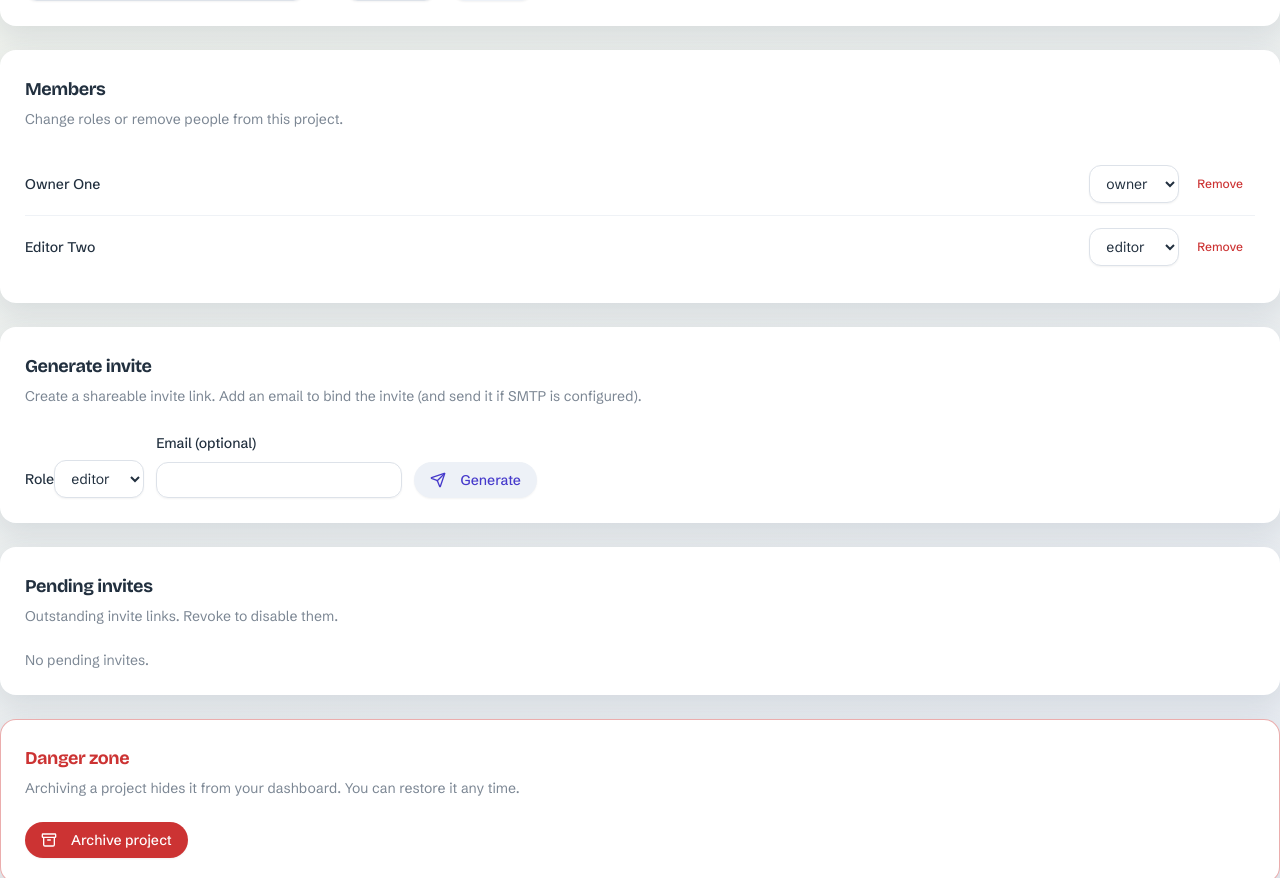
ProjectTab › generating a link-only invite renders the /invite/<token> URL + email-not-configured hint when an email was supplied
(page scrolled)
Check: the text "Generate invite" is shown, box [25,355,152,377]
Step 1. Type "who@x.co" into the field labelled "Email (optional)" → (279, 480), box [156,462,402,498]
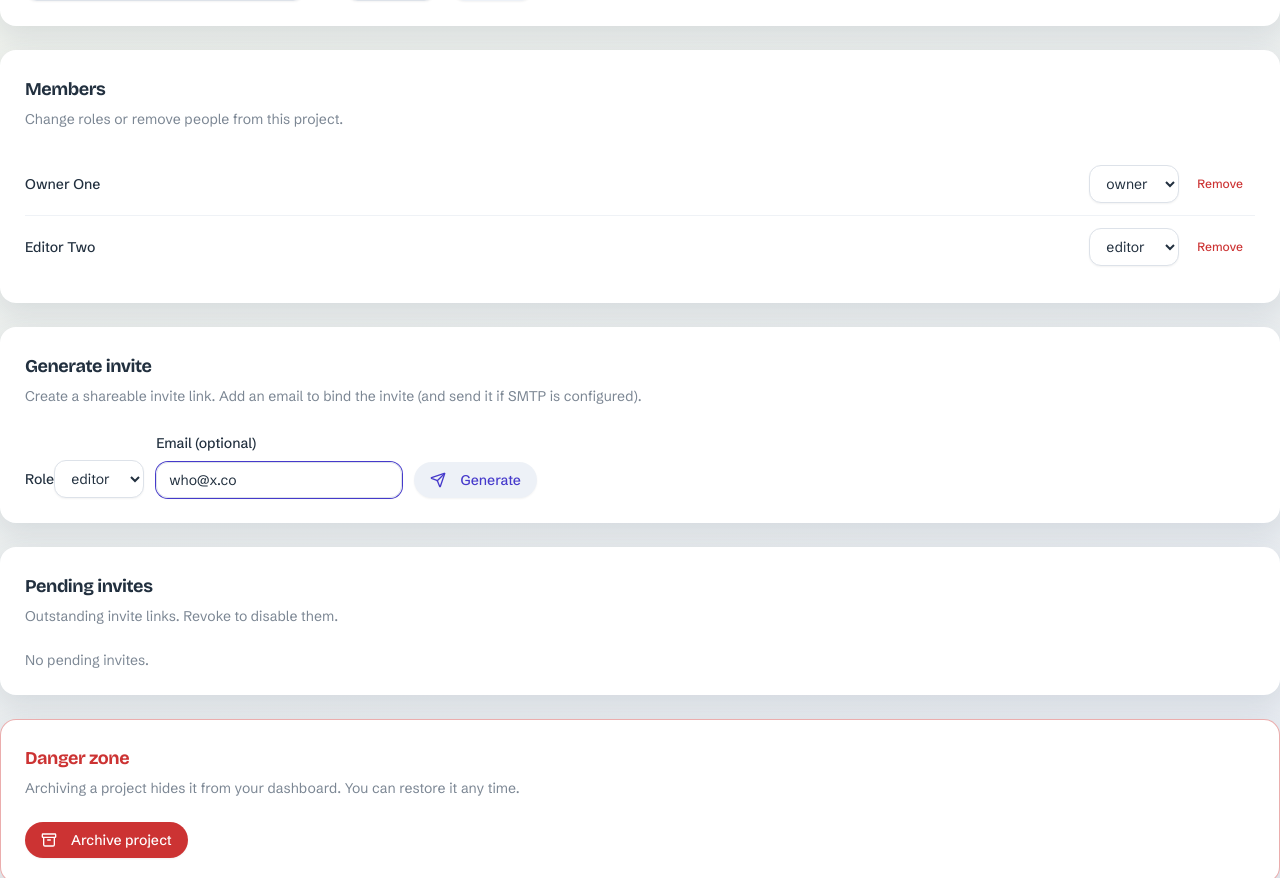
Step 2. Click the button "Generate" → (476, 480), box [414,462,537,498]
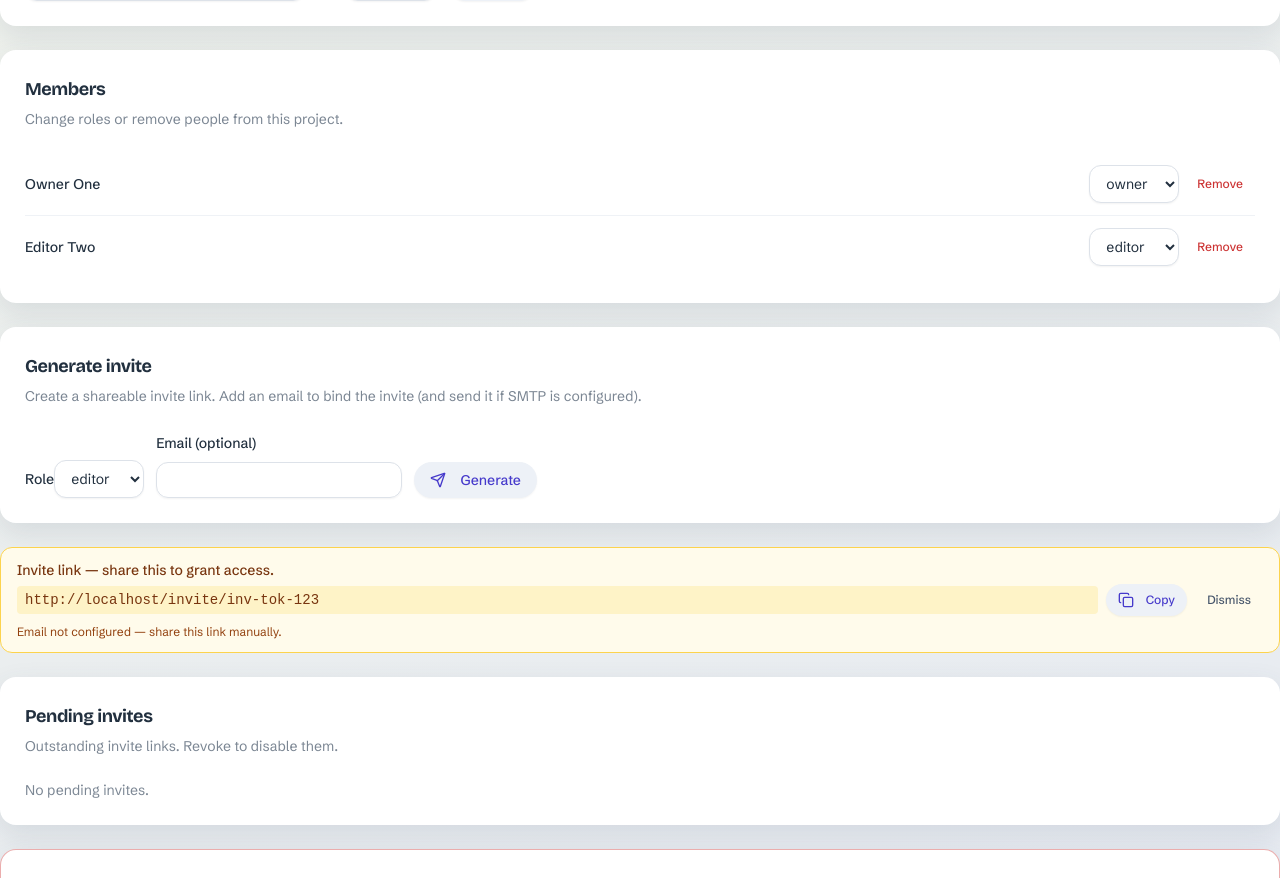
Check: the text "http://localhost/invite/inv-tok-123" is shown, box [17,586,1098,614]
Check: the text "Email not configured — share this link manually." is shown, box [17,624,282,639]
